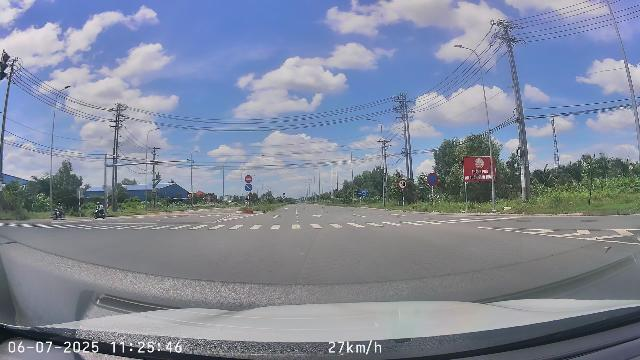102-cam-di-nguoc-chieu: (244, 175, 253, 183)
127-toc-do-toi-da-60: (398, 179, 408, 189)
131a-cam-do-xe: (426, 172, 439, 186)
302a-huong-phai-di-vong-chuong-ngai-vat-1: (245, 183, 253, 192)
